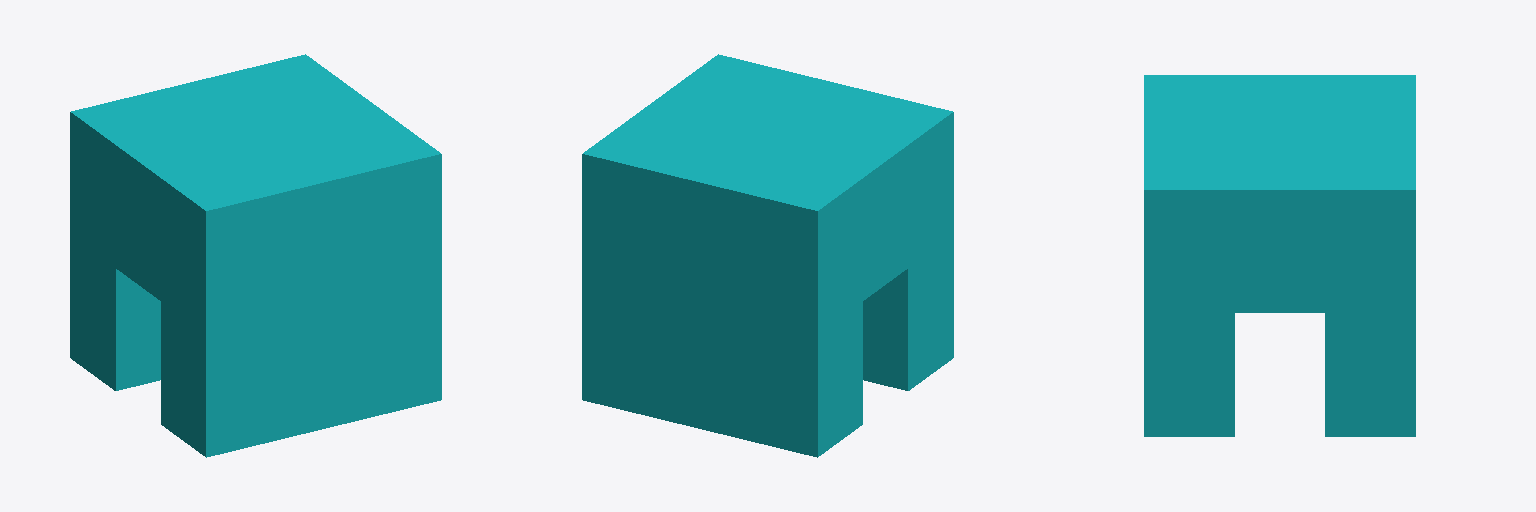
The model's file is TestObject.obj.
The picture shows the model from 3 angles: view 1: azimuth 30°, elevation 25°; view 2: azimuth 150°, elevation 25°; view 3: azimuth 270°, elevation 25°; orthographic projection.
Visible parts, largest first — view 1: TestObject_Cube; view 2: TestObject_Cube; view 3: TestObject_Cube.
Part boxes in pixels (left/top/right/bottom): TestObject_Cube: left=70, top=54, right=441, bottom=457; TestObject_Cube: left=582, top=54, right=953, bottom=457; TestObject_Cube: left=1144, top=75, right=1415, bottom=436.
Bounding box in the file's own units: 2 × 2 × 2.